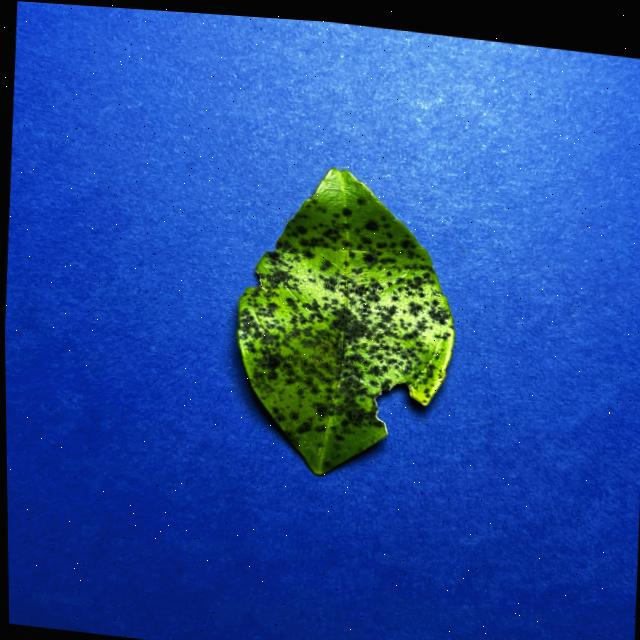sooty_mold: (237, 168, 453, 475)
